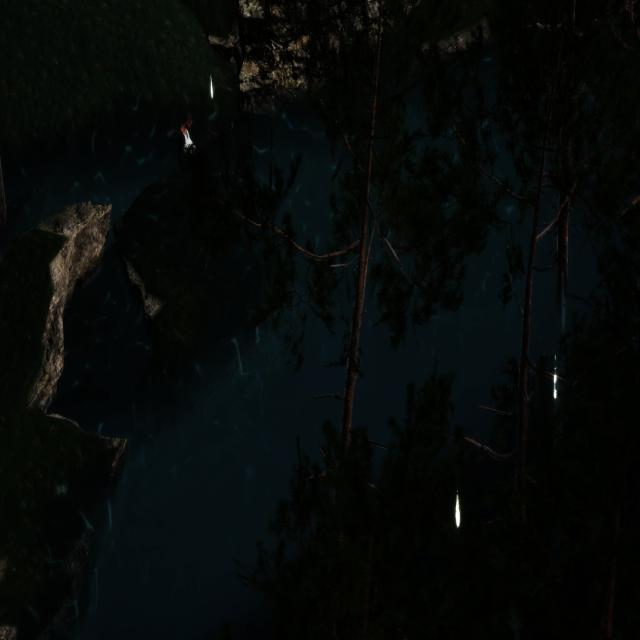Human: (172, 108, 225, 193)
